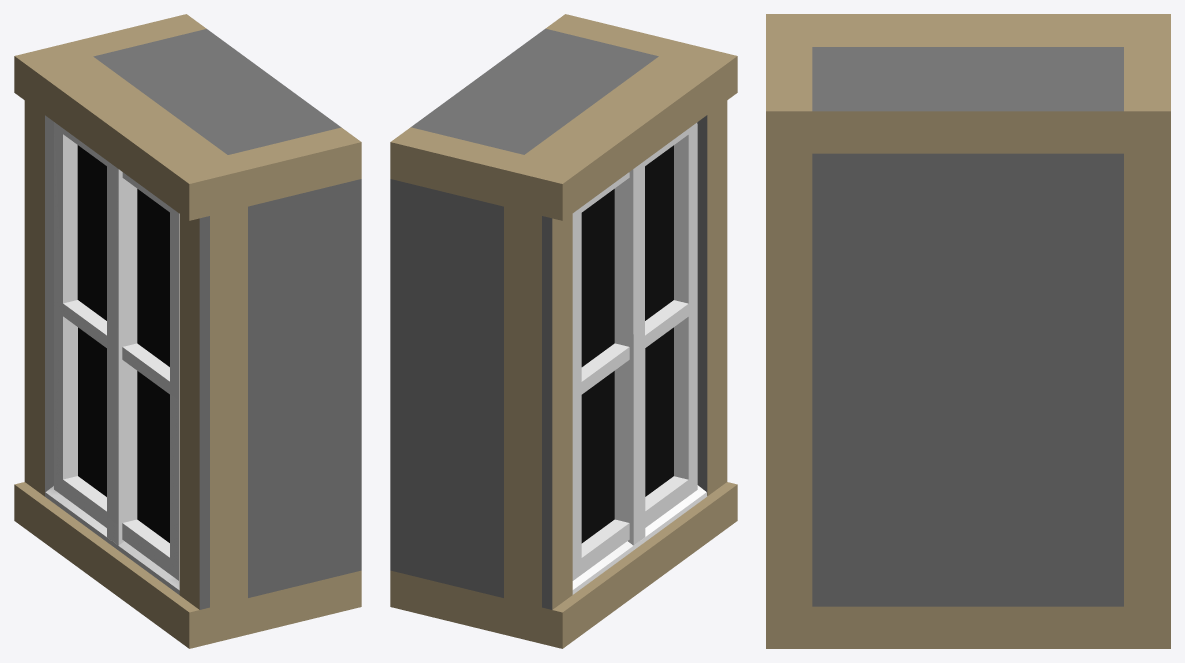
The model's file is Window3.fbx.
3 views of the same model, side by side, from view 1: azimuth 30°, elevation 25°; view 2: azimuth 150°, elevation 25°; view 3: azimuth 270°, elevation 25° (orthographic). The views are drawn at different scales.
Parts seen in each view (by area): view 1: Window003; view 2: Window003; view 3: Window003.
Boxes of the visible parts, <box> form: Window003: <box>14,14,361,648</box>; Window003: <box>390,14,737,648</box>; Window003: <box>766,14,1170,648</box>.
Size of the model in its own units: 22.36 by 57.71 by 39.37.
